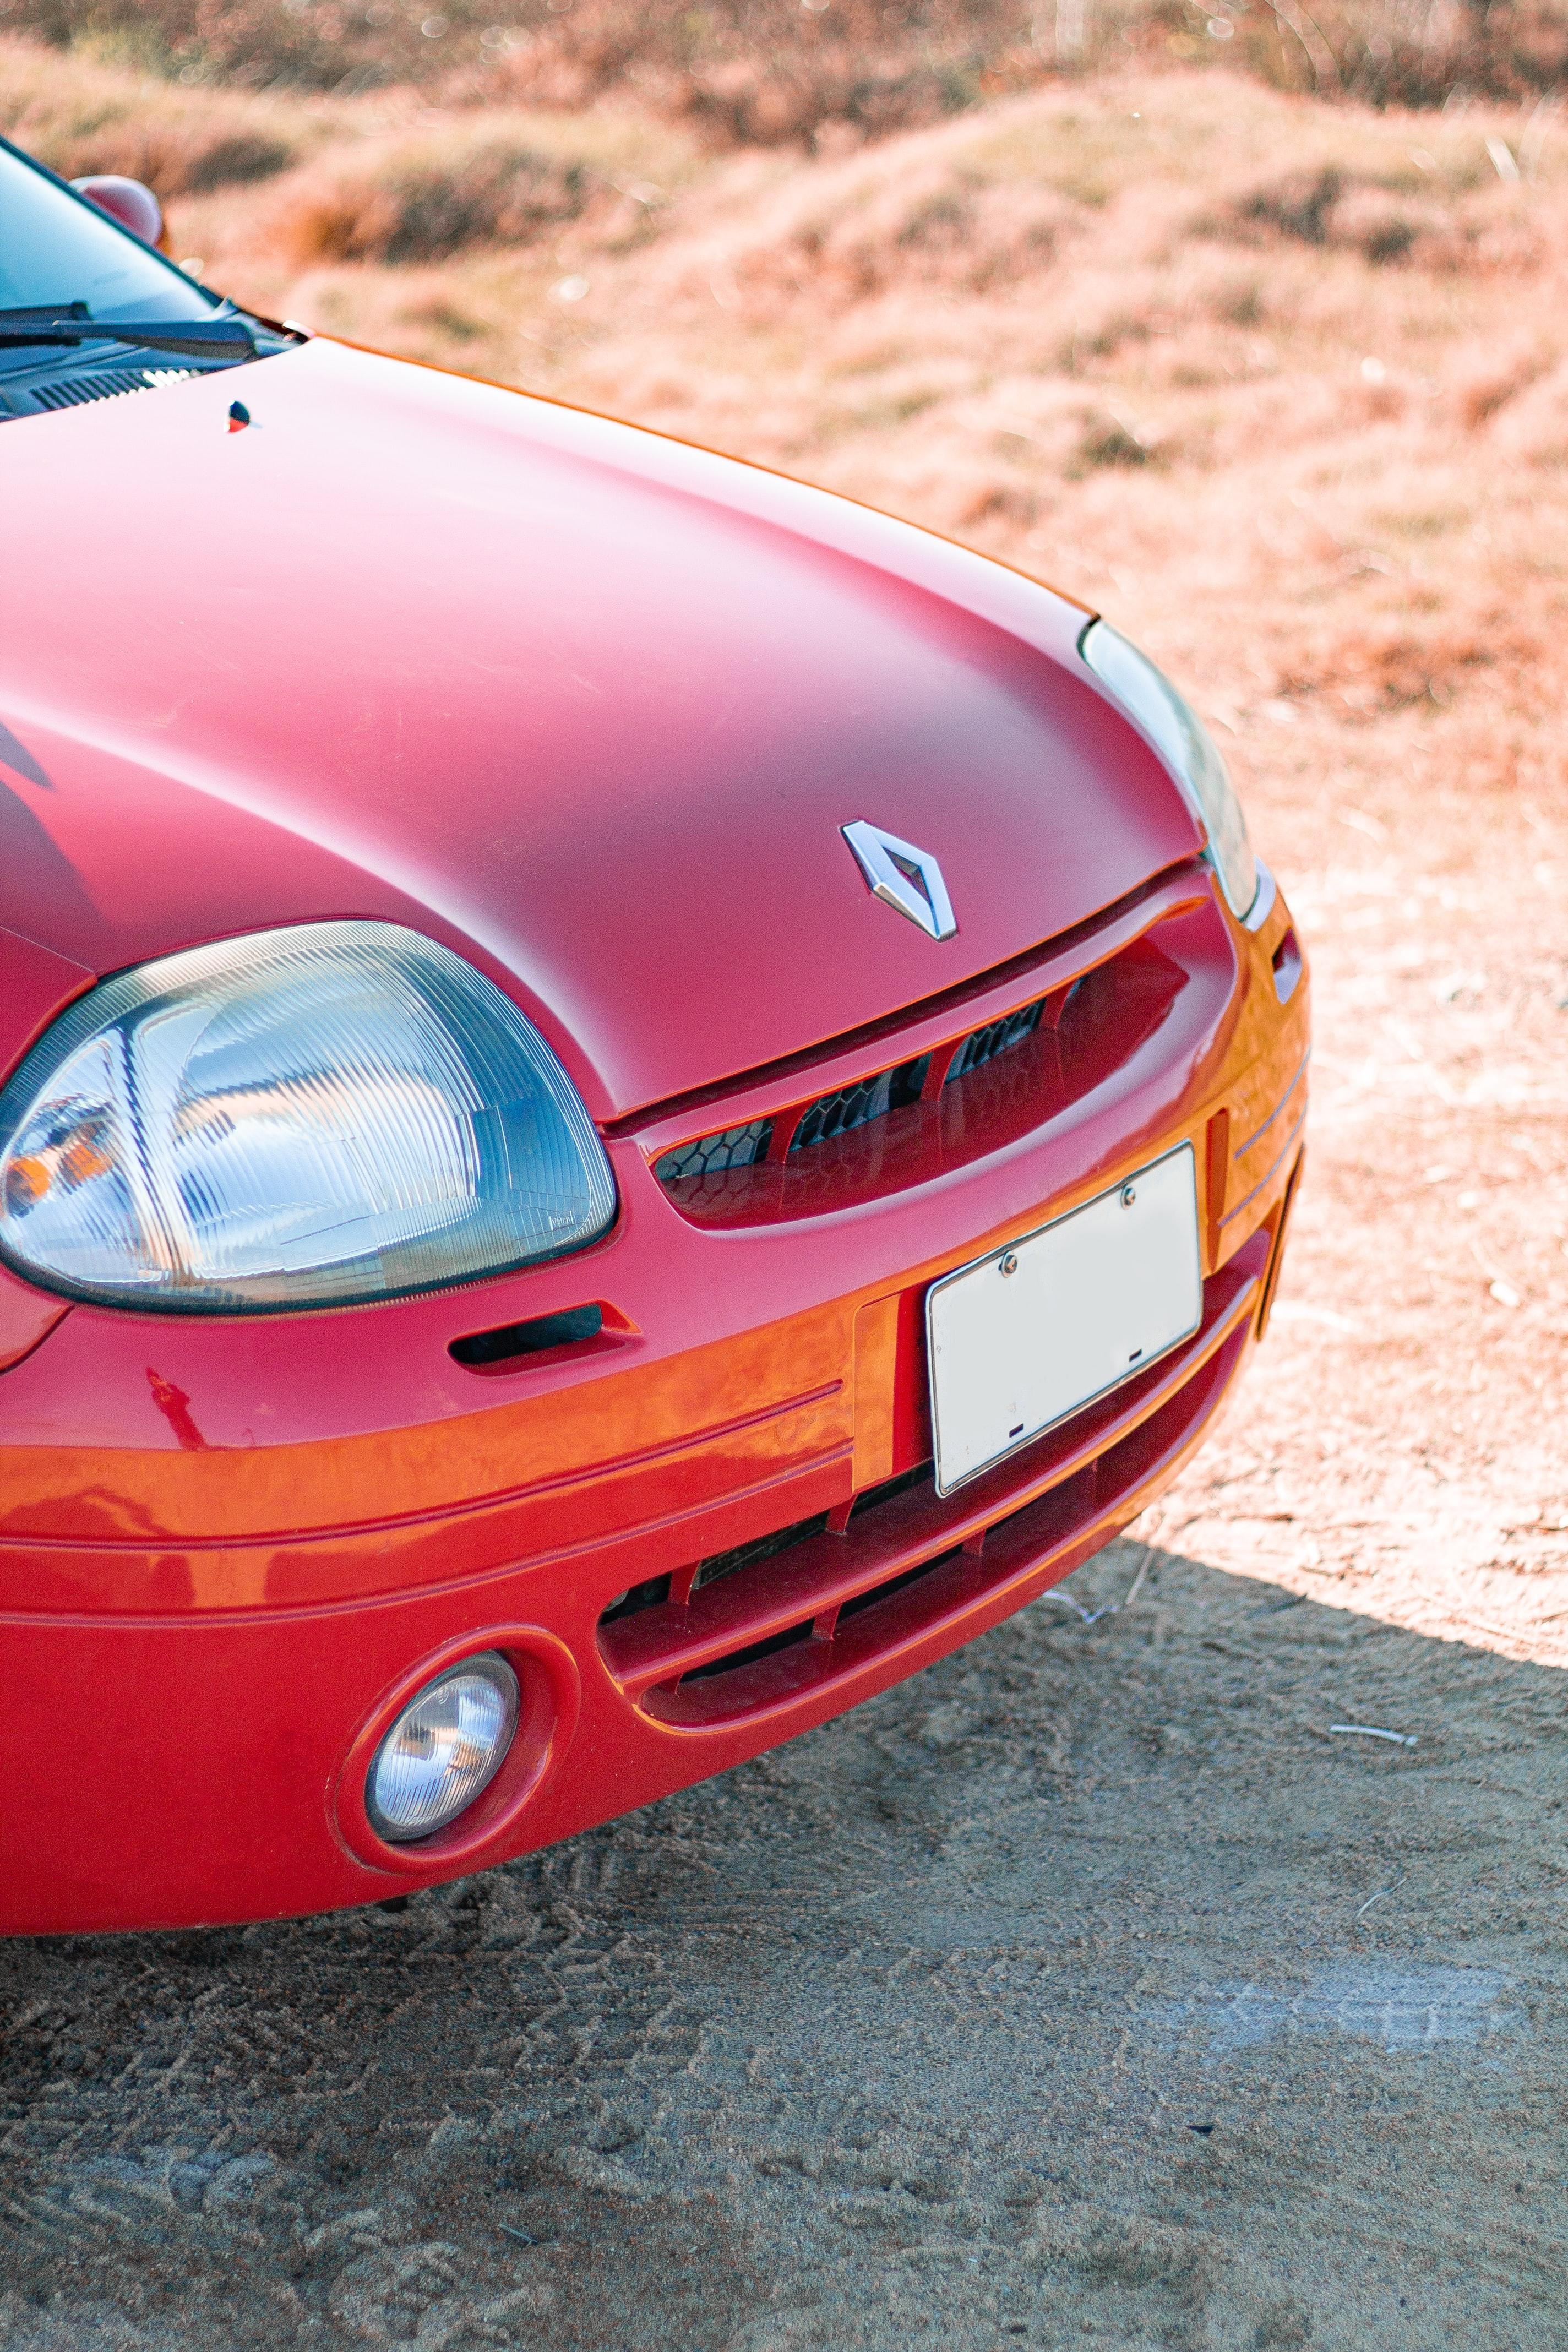Renault: (826, 777, 975, 997)
